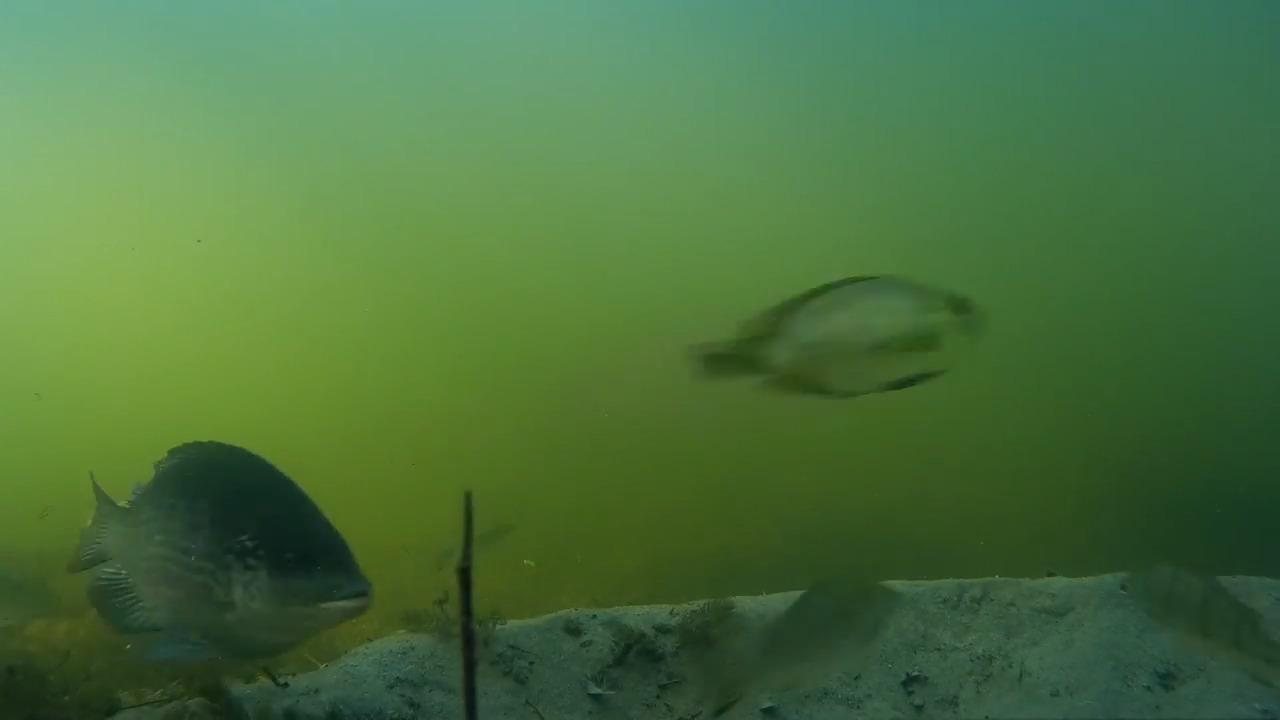Tilapia: (43, 428, 387, 656), (714, 258, 991, 434), (658, 558, 923, 720), (1125, 546, 1280, 716)
